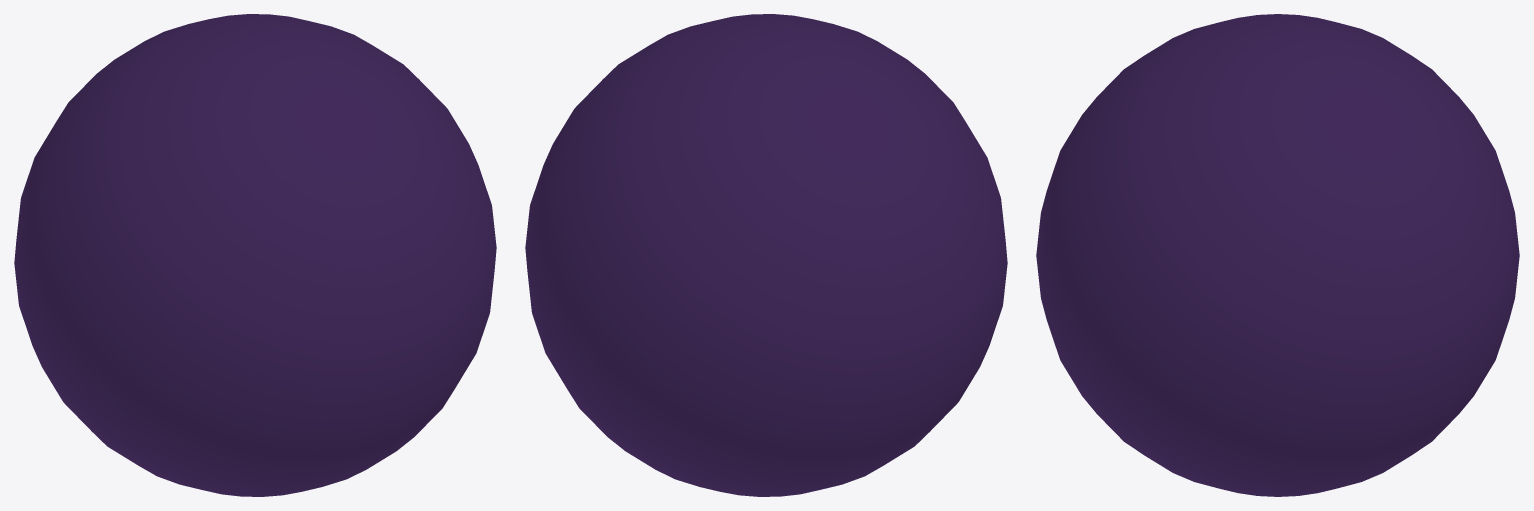
File: violet-arena.glb
3 views of the same model, side by side, from view 1: azimuth 30°, elevation 25°; view 2: azimuth 150°, elevation 25°; view 3: azimuth 270°, elevation 25° (orthographic).
Visible parts, largest first — view 1: Night sky; view 2: Night sky; view 3: Night sky.
Part boxes in pixels (x1=…): Night sky: x1=14, y1=14, x2=496, y2=496; Night sky: x1=525, y1=14, x2=1007, y2=496; Night sky: x1=1036, y1=14, x2=1519, y2=496.
Bounding box in the file's own units: 188 × 188 × 188.
